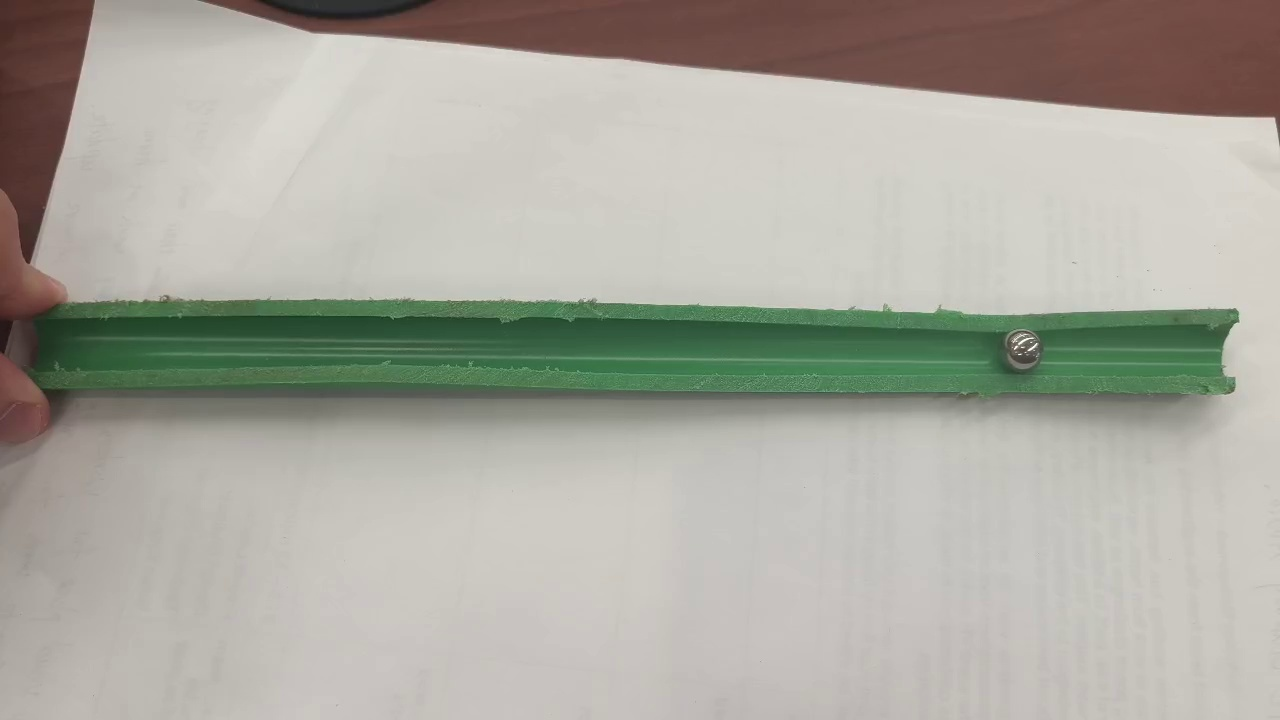ball: (1005, 329, 1041, 369)
